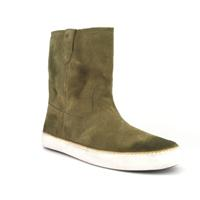shoe: (42, 27, 182, 170)
